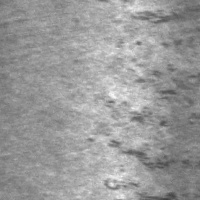rolled-in_scale: (97, 55, 196, 199), (98, 0, 199, 49)
